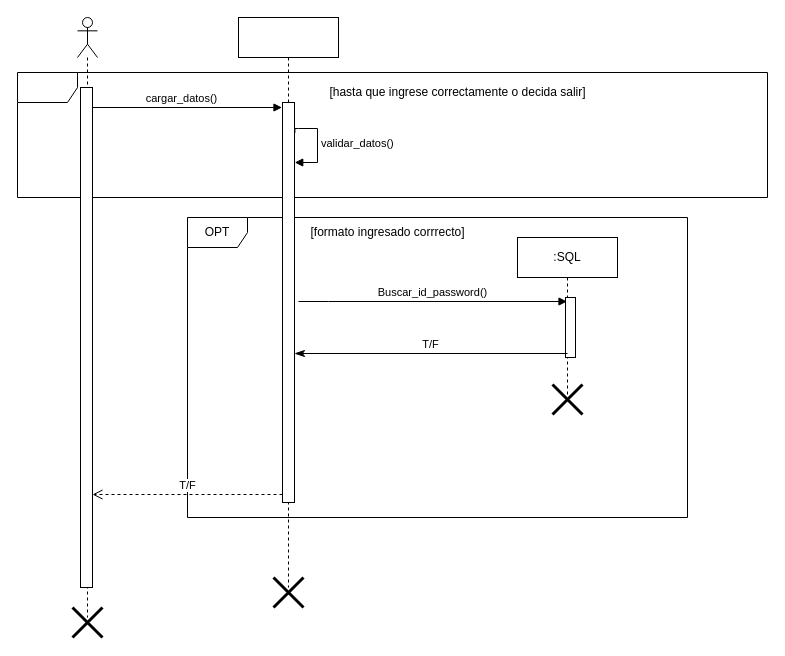
Some shapes in this 785 by 656 pixel diagram are drawn without their labels. The box of each missing label's shape, as (x1, y1, x2, y2) in pixels:
:Usuario: (238, 16, 338, 588)
LOOP: (16, 72, 768, 198)
